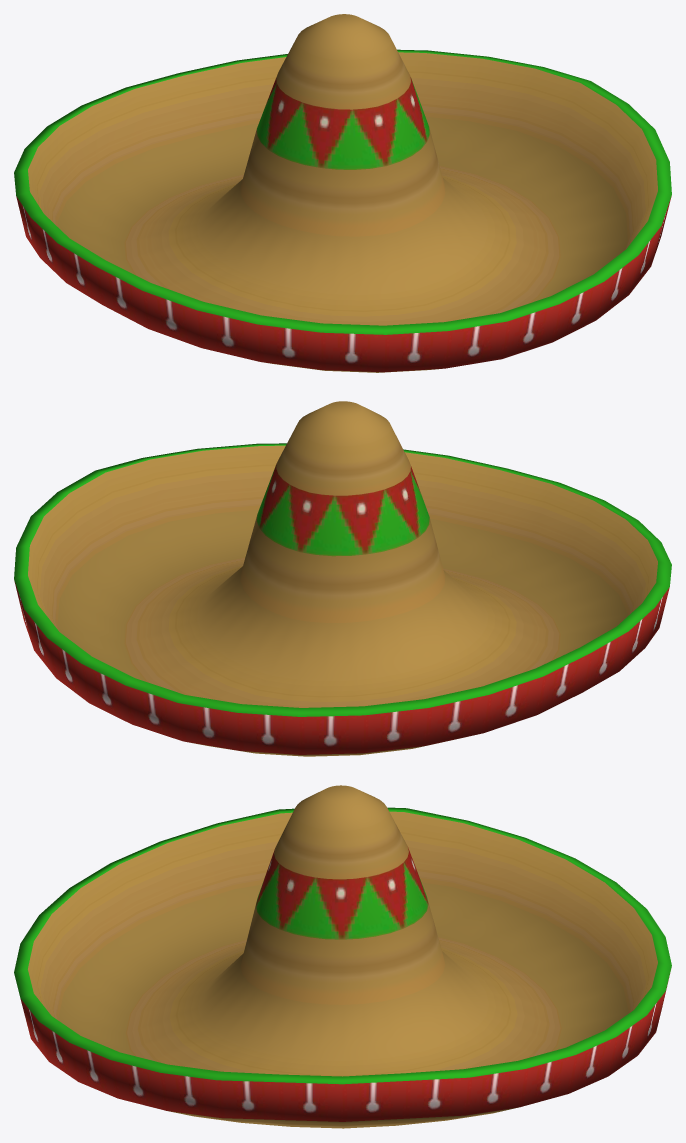
3 renders of one model, top to bottom at view 1: azimuth 30°, elevation 25°; view 2: azimuth 150°, elevation 25°; view 3: azimuth 270°, elevation 25°, orthographic.
Visible parts, largest first — view 1: Mexican Sombrero; view 2: Mexican Sombrero; view 3: Mexican Sombrero.
Boxes of the visible parts, x1,y1,x2,y2 form: Mexican Sombrero: [14, 14, 671, 372]; Mexican Sombrero: [14, 401, 671, 756]; Mexican Sombrero: [14, 785, 671, 1128].
Size of the model in its own units: 4.44 by 1.8 by 4.44.
1 material, 1 textured.
